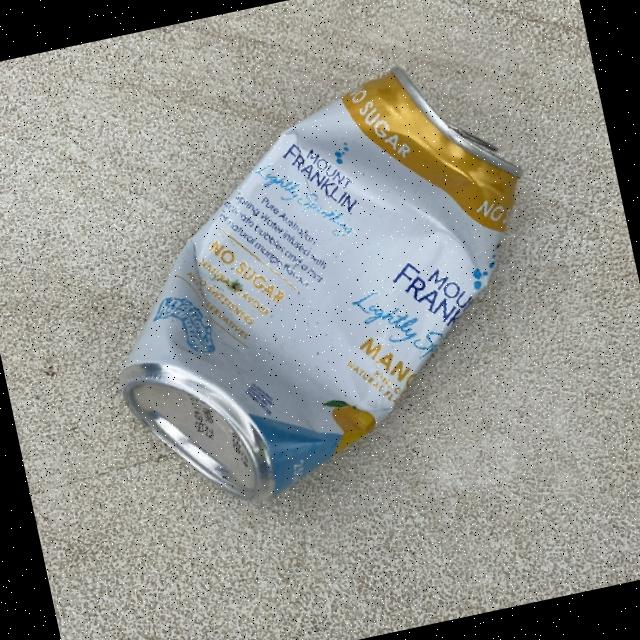metal: (64, 44, 579, 526)
